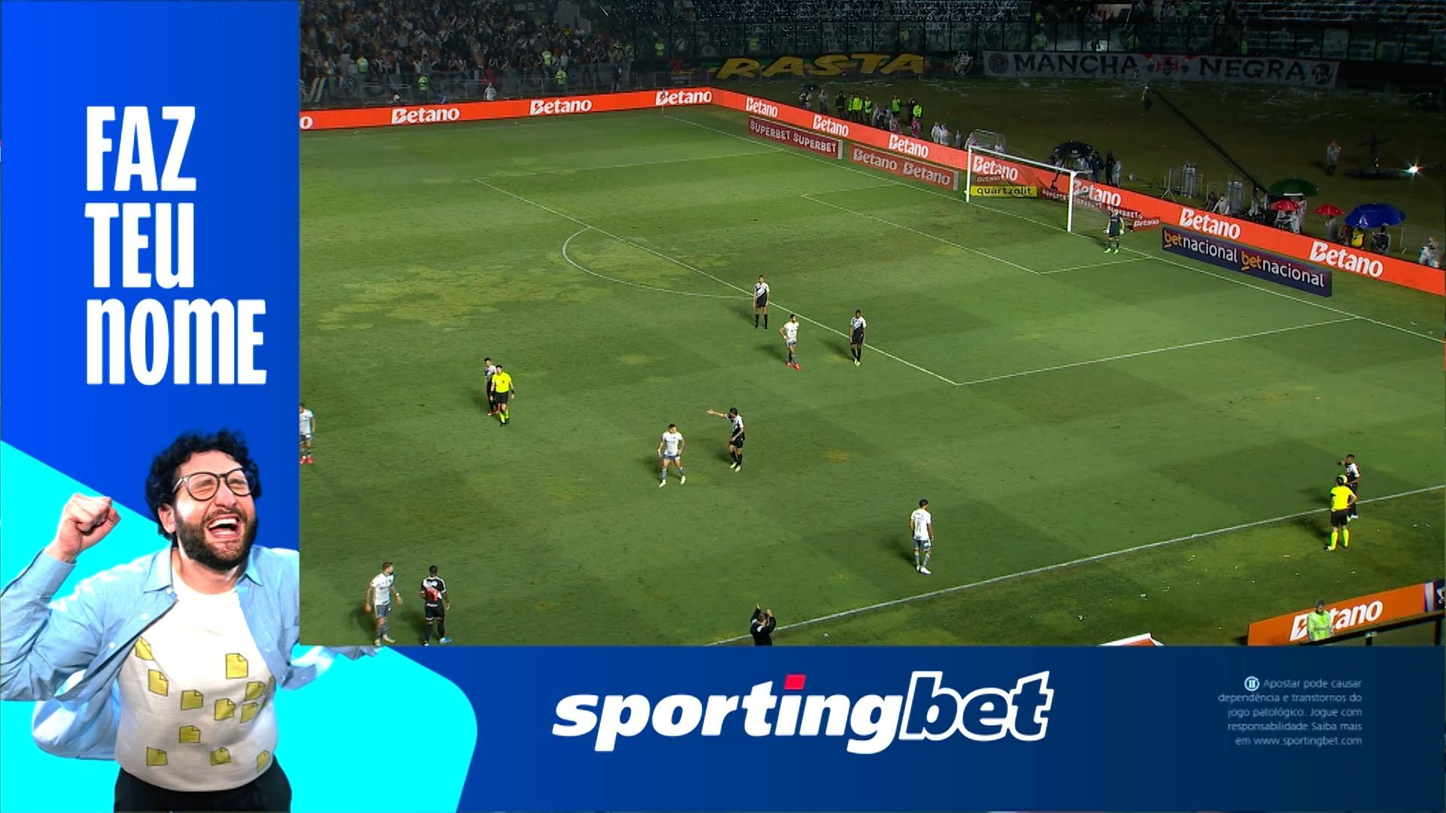objects: (0, 0, 1444, 812)
